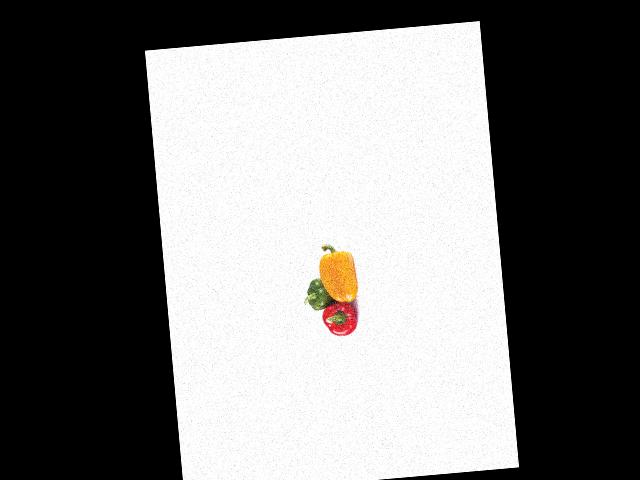bell_pepper: (301, 274, 337, 314)
